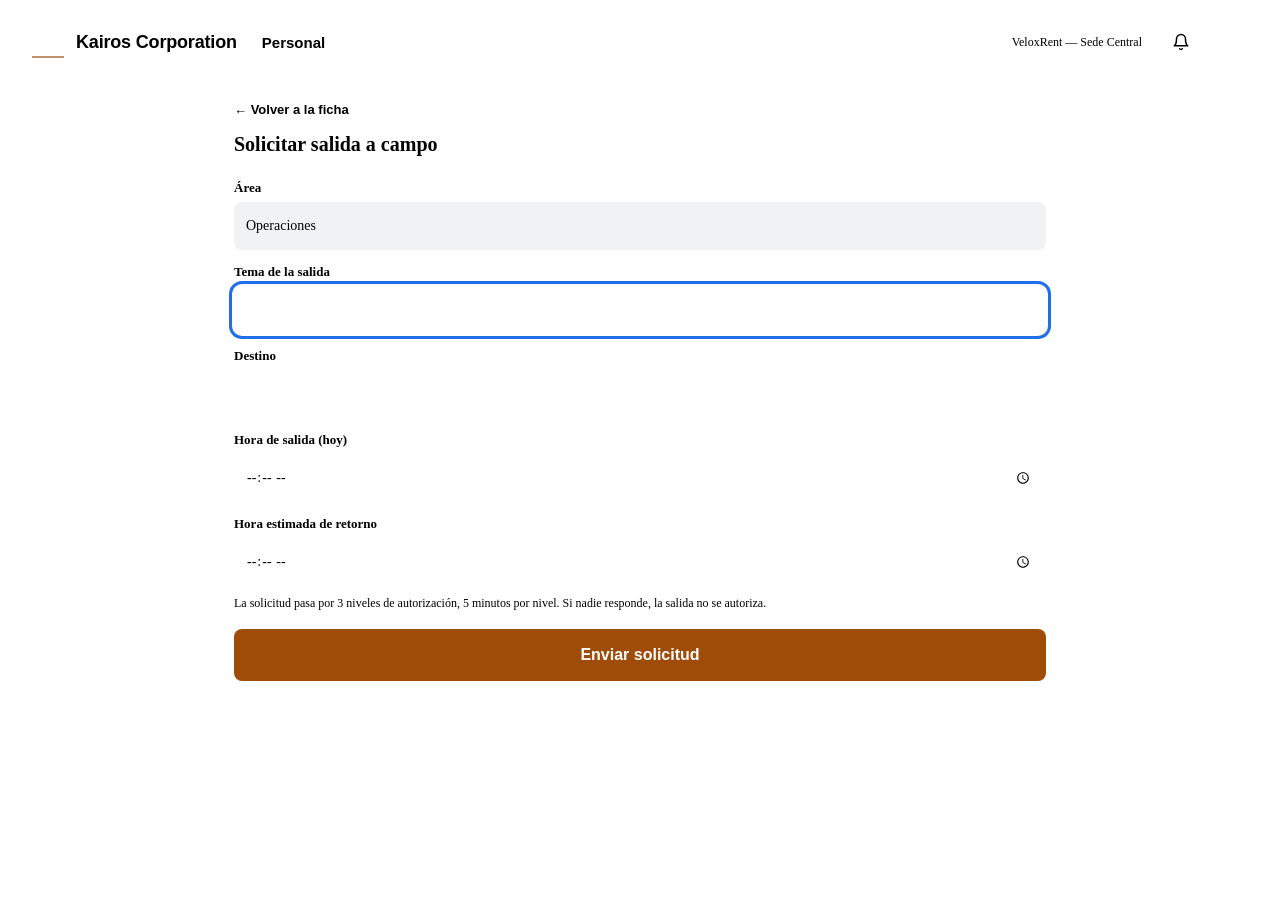
Scenario: FieldTripRequestScreen (ADP-06) › valida los campos obligatorios y que el retorno sea posterior a la salida
expect the field labelled "Tema de la salida" is shown: met, box x1=234 y1=286 x2=1046 y2=334
Step 1. Click the button "Enviar solicitud" → (640, 655), box x1=234 y1=629 x2=1046 y2=681
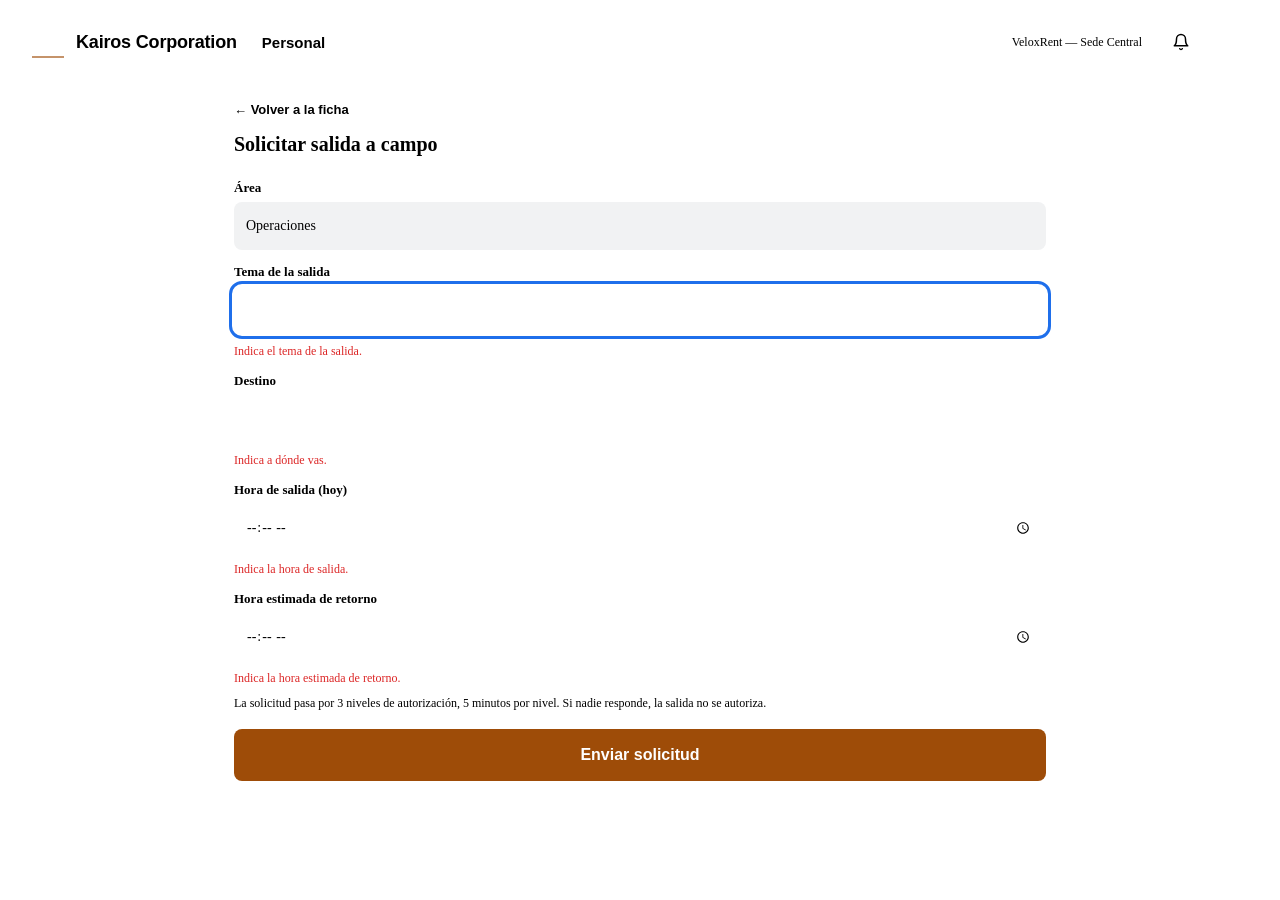
expect the text "Indica el tema de la salida." is shown: met, box x1=234 y1=344 x2=362 y2=358
Step 2. Type "15:00" into the time field labelled "Hora de salida (hoy)" → (640, 528), box x1=234 y1=504 x2=1046 y2=552
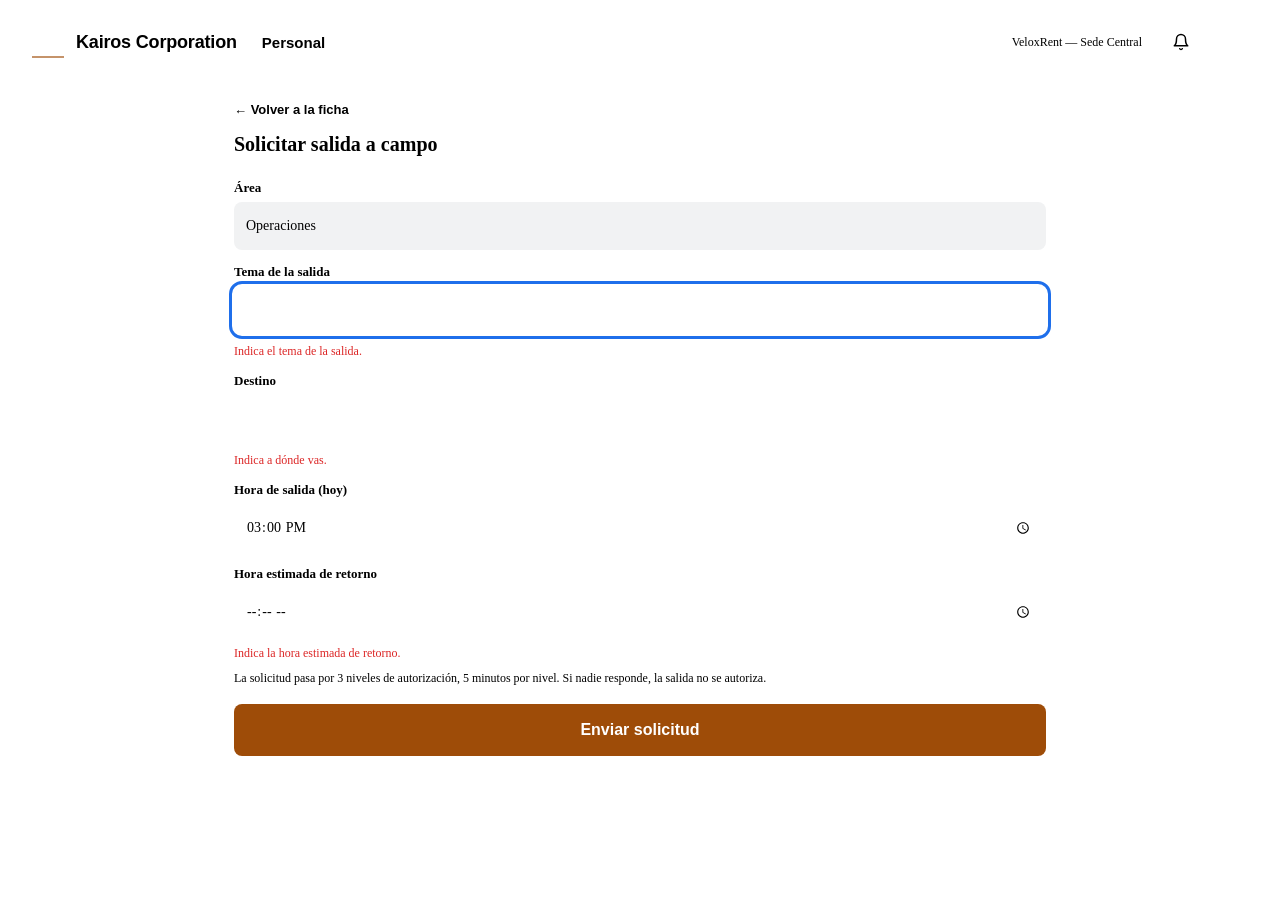
Step 3. Type "14:00" into the time field labelled "Hora estimada de retorno" → (640, 612), box x1=234 y1=588 x2=1046 y2=636
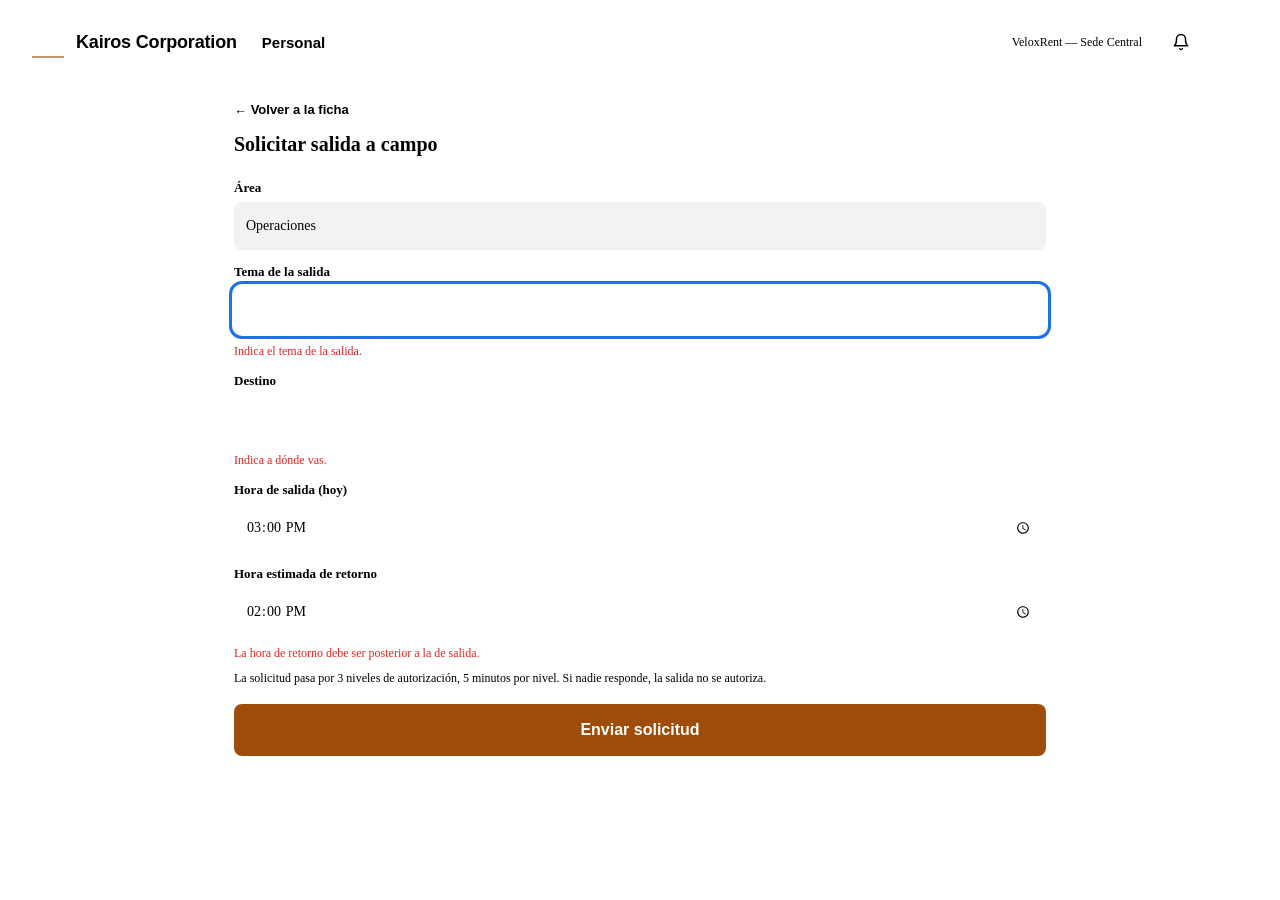
expect the text "La hora de retorno debe ser posterior a la de salida." is shown: met, box x1=234 y1=646 x2=480 y2=660
